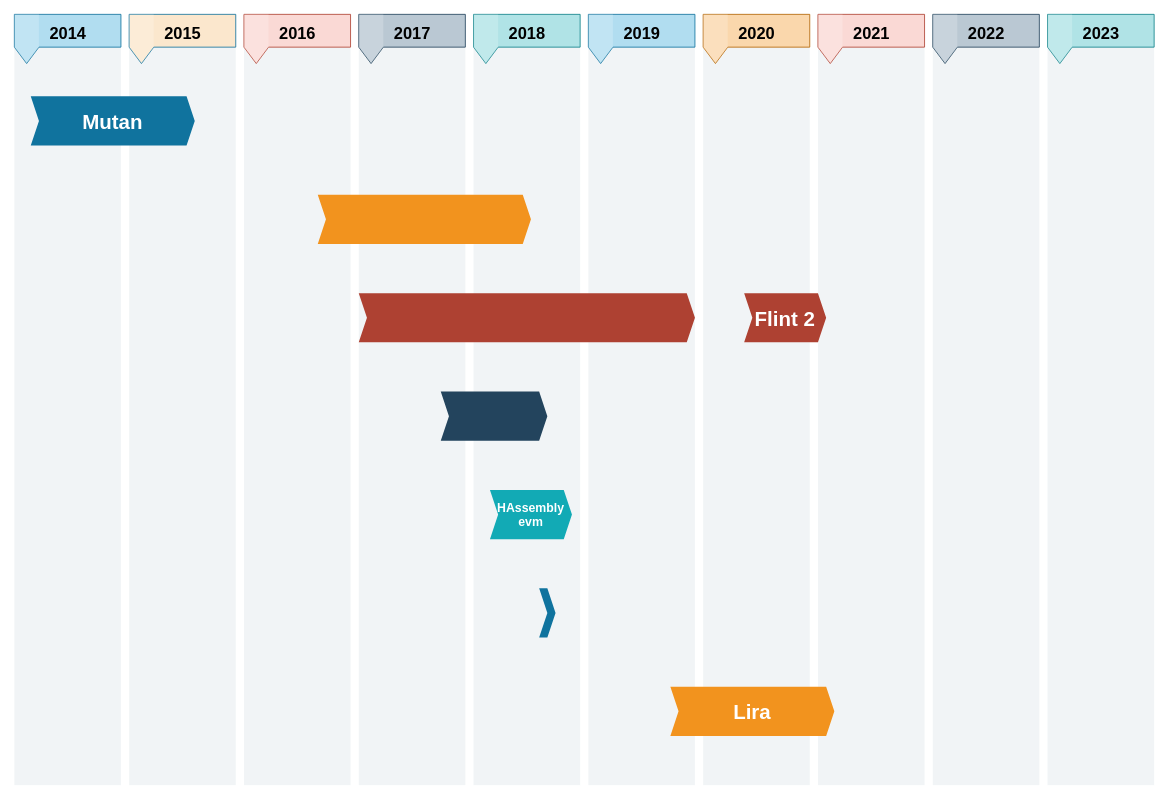
Image size: 1169x800. Some labels were removed from this diagram. The box of each missing label's shape, as (x1, y1, x2, y2) in pixels:
Bamboo: (317, 194, 531, 244)
Flint: (358, 293, 695, 342)
Logikon: (539, 588, 555, 637)
Pyramid Scheme: (440, 391, 547, 440)
